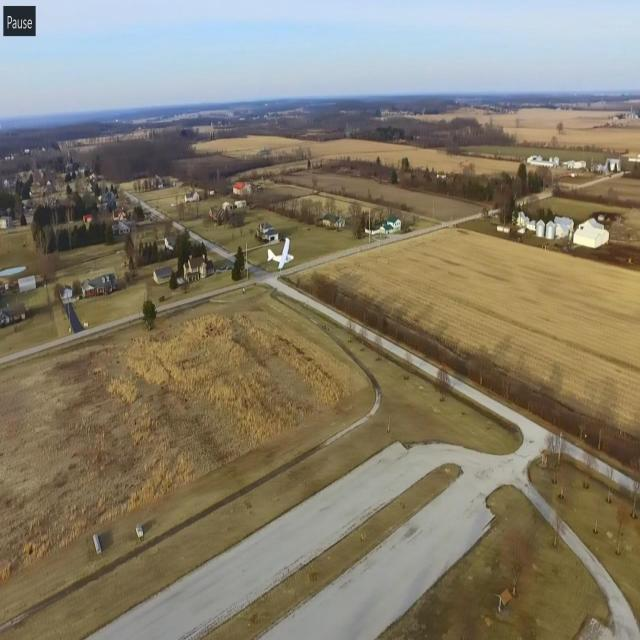iha: (263, 232, 302, 274)
